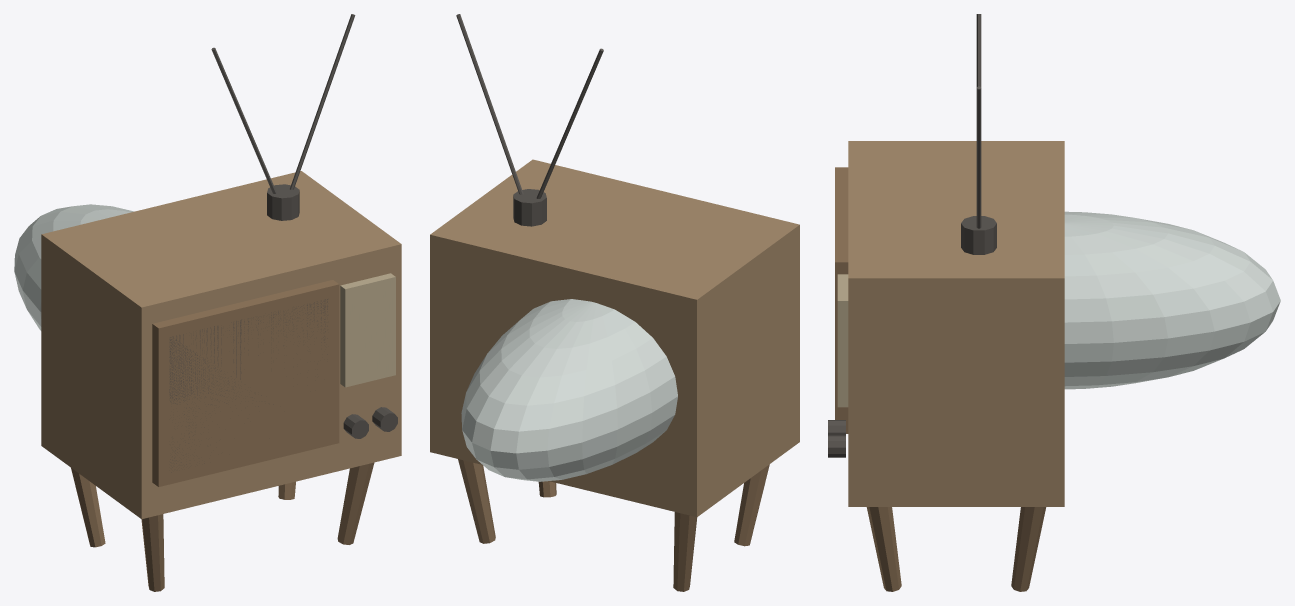
The model's file is cabin_tv.glb.
3 renders of one model, left to right at view 1: azimuth 30°, elevation 25°; view 2: azimuth 150°, elevation 25°; view 3: azimuth 270°, elevation 25°, orthographic. The views are drawn at different scales.
Visible parts, largest first — view 1: cabinet, bezel, grille, screen, leg1-1, screen back, leg-1-1, leg-11, ant base, ant1, ant-1; view 2: cabinet, screen, leg11, leg-11, leg-1-1, ant base, ant1, ant-1; view 3: cabinet, screen, bezel, leg1-1, leg11, grille, ant base, ant1.
Boxes of the visible parts, box(x1,y1,x2,y2) form: cabinet: box(41, 171, 401, 519); bezel: box(152, 280, 339, 486); grille: box(340, 273, 395, 387); screen: box(14, 204, 134, 330); leg1-1: box(337, 462, 374, 544); screen back: box(169, 299, 327, 472); leg-1-1: box(141, 514, 164, 591); leg-11: box(71, 468, 105, 547); ant base: box(267, 184, 299, 220); ant1: box(290, 14, 355, 189); ant-1: box(211, 47, 276, 193); cabinet: box(430, 159, 799, 517); screen: box(461, 299, 677, 481); leg11: box(458, 459, 495, 543); leg-11: box(673, 512, 697, 591); leg-1-1: box(734, 464, 769, 546); ant base: box(513, 189, 546, 226); ant1: box(456, 14, 523, 194); ant-1: box(536, 48, 603, 198); cabinet: box(848, 141, 1064, 506); screen: box(1064, 211, 1280, 389); bezel: box(835, 167, 848, 433); leg1-1: box(866, 507, 901, 591); leg11: box(1011, 507, 1046, 591); grille: box(837, 274, 848, 407); ant base: box(961, 216, 996, 254); ant1: box(976, 86, 981, 228).
Size of the model in its own units: 0.7577 by 1.29 by 1.
